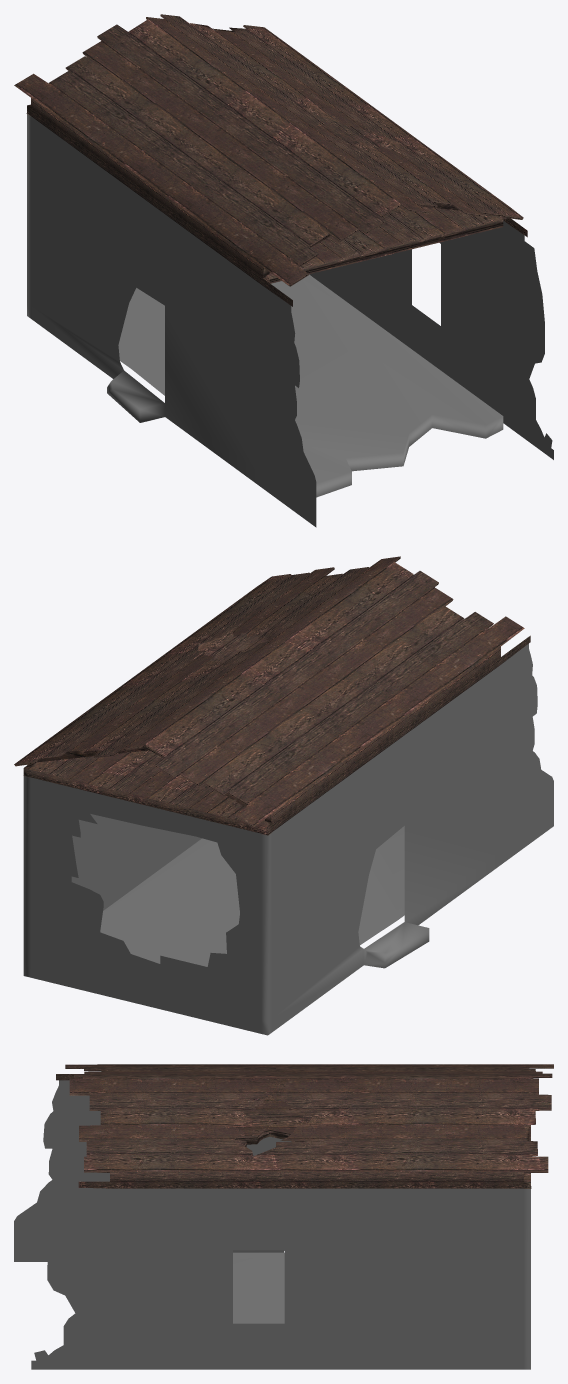
File: Ruin10_lod02.fbx
3 renders of one model, top to bottom at view 1: azimuth 30°, elevation 25°; view 2: azimuth 150°, elevation 25°; view 3: azimuth 270°, elevation 25°, orthographic. The views are drawn at different scales.
Parts seen in each view (by area): view 1: Default_Layer; view 2: Default_Layer; view 3: Default_Layer.
Boxes of the visible parts, bbox=[...] form: Default_Layer: bbox=[14, 14, 553, 527]; Default_Layer: bbox=[14, 556, 553, 1035]; Default_Layer: bbox=[14, 1064, 553, 1369].
Bounding box in the file's own units: 662 × 616 × 1272.
